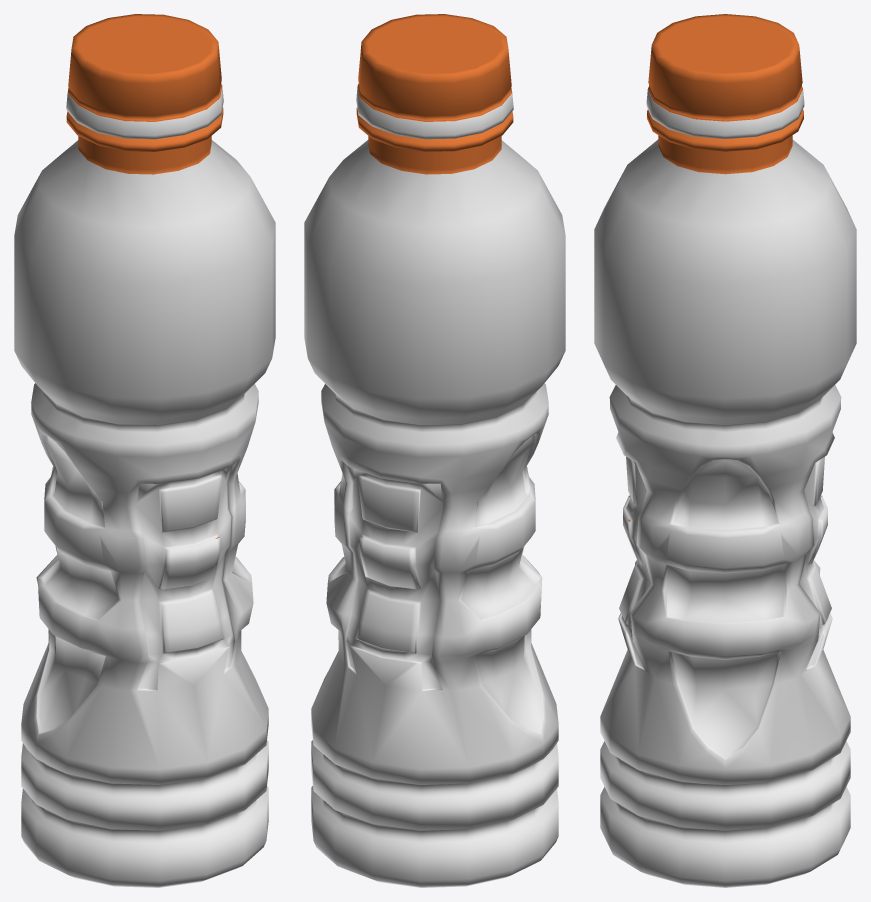
The model's file is botol.fbx.
The picture shows the model from 3 angles, left to right: view 1: azimuth 30°, elevation 25°; view 2: azimuth 150°, elevation 25°; view 3: azimuth 270°, elevation 25°; orthographic projection.
Visible parts, largest first — view 1: Gatorade bottle 600ml; view 2: Gatorade bottle 600ml; view 3: Gatorade bottle 600ml.
Part boxes in pixels (x1,y1,x2,y2): Gatorade bottle 600ml: [14, 14, 275, 887]; Gatorade bottle 600ml: [304, 14, 565, 887]; Gatorade bottle 600ml: [594, 14, 856, 887].
Bounding box in the file's own units: 6.2 × 20.77 × 6.2.
